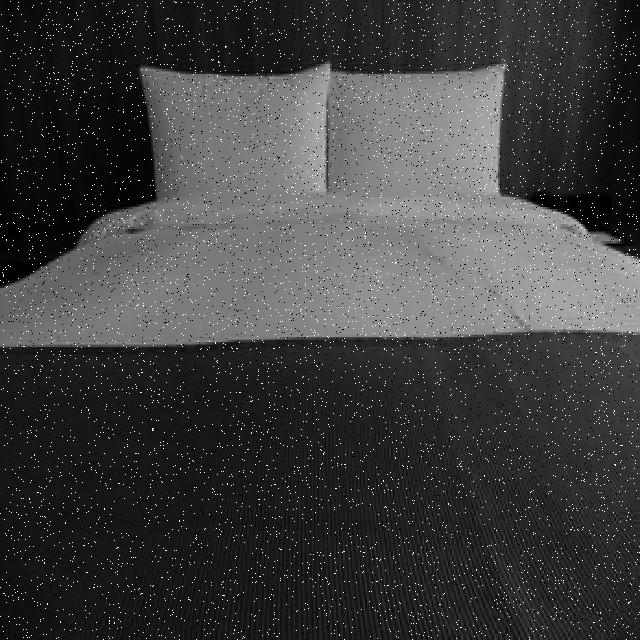bed: (13, 59, 640, 601)
